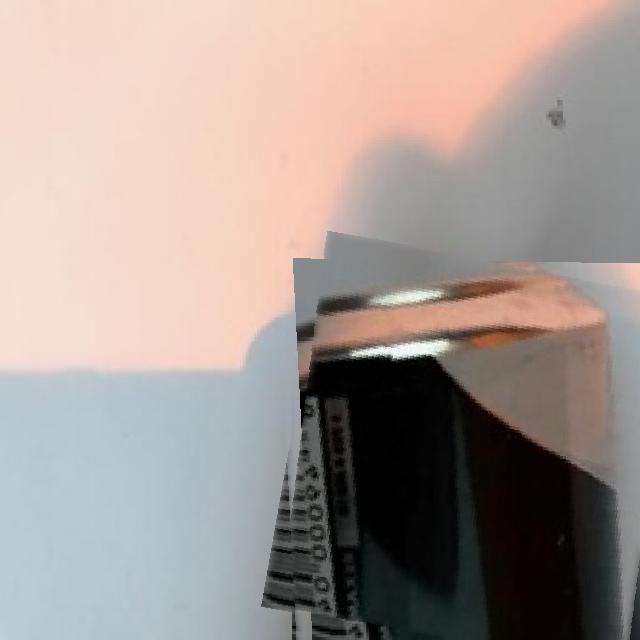recyclable: (276, 244, 640, 640)
